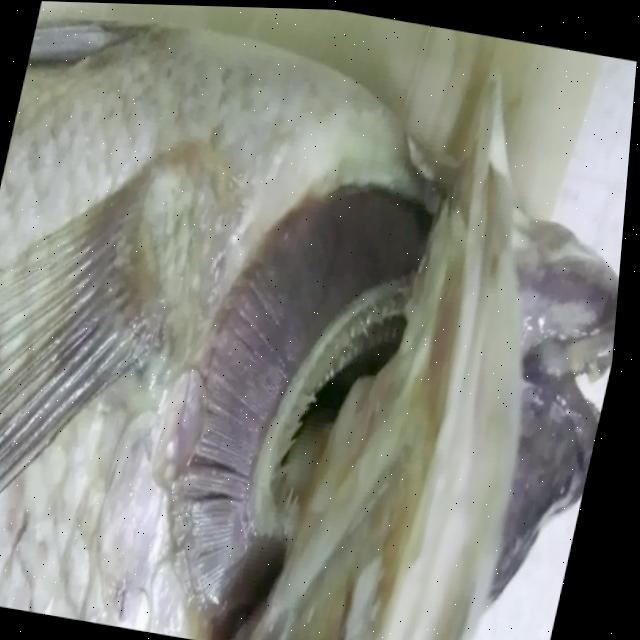Non-Fresh: (135, 159, 444, 628)
